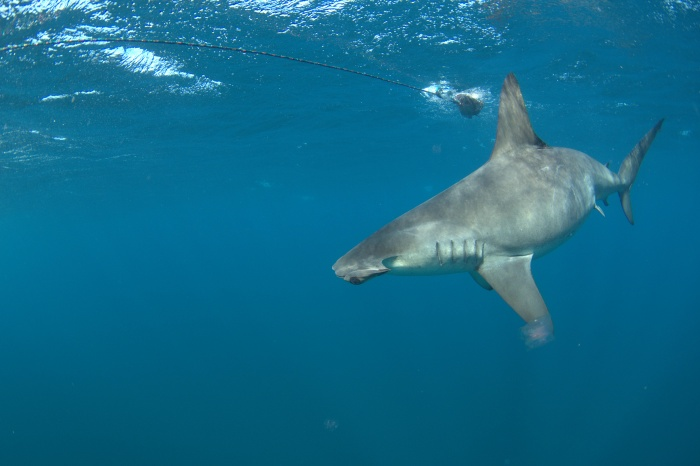Hammer: (308, 34, 676, 366)
